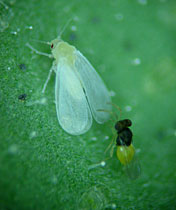whitefly: (25, 17, 115, 135)
